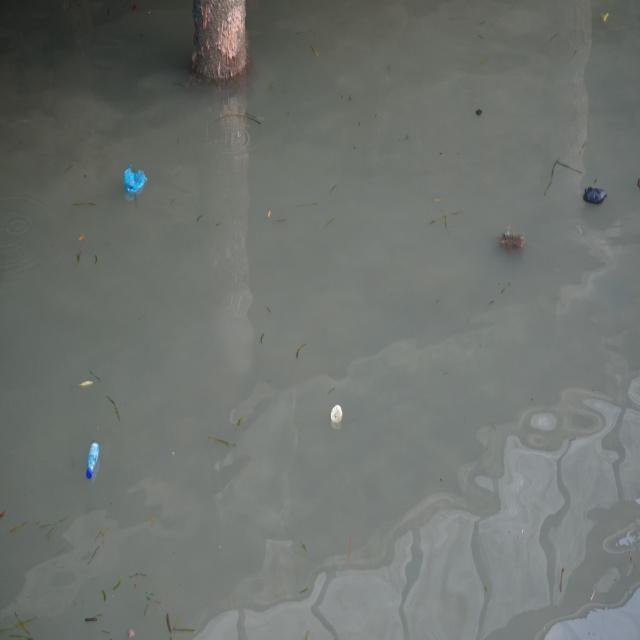Botol Plastik: (84, 441, 104, 484)
Bungkus Minuman: (331, 399, 346, 431)
Kantong Plastik: (123, 160, 151, 202), (584, 180, 608, 211)
